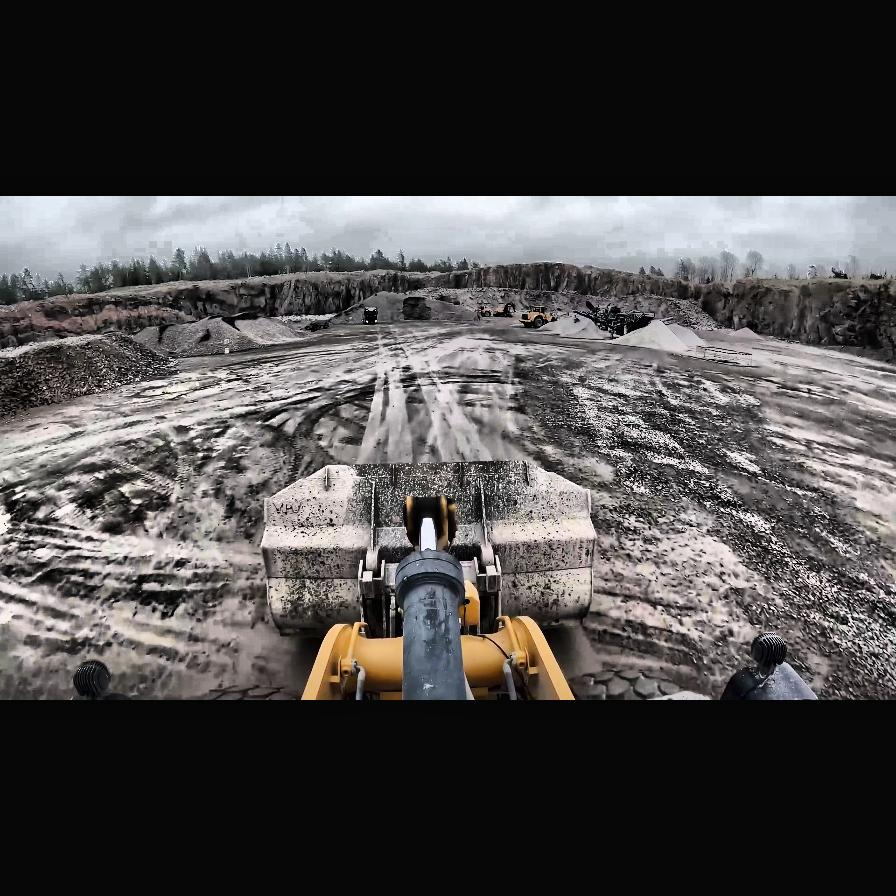anchor: (404, 494, 454, 552)
pile of gravel: (2, 334, 170, 414), (139, 316, 301, 358), (442, 284, 586, 324), (331, 290, 453, 324), (608, 319, 690, 353), (661, 297, 725, 331), (537, 314, 605, 340), (726, 326, 762, 340), (283, 313, 333, 323)
